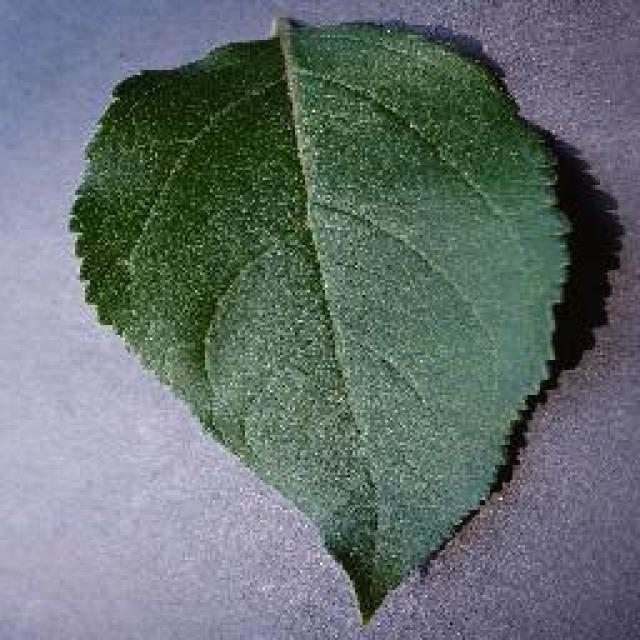apple healthy: (65, 12, 580, 620)
